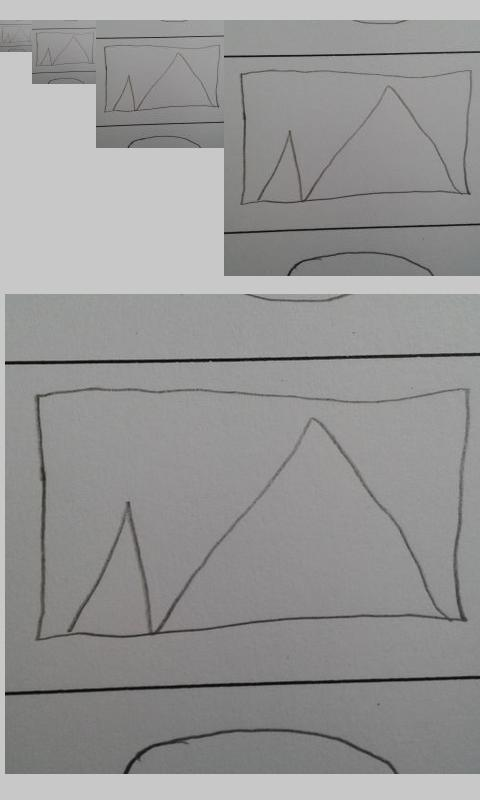image_view: (31, 383, 467, 644), (238, 69, 474, 205), (103, 44, 221, 114), (35, 31, 94, 67), (1, 26, 31, 43)
